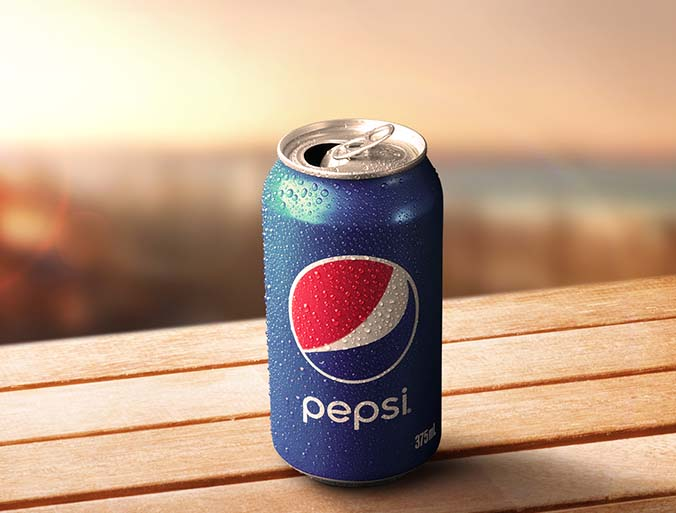pepsi: (288, 257, 416, 380)
